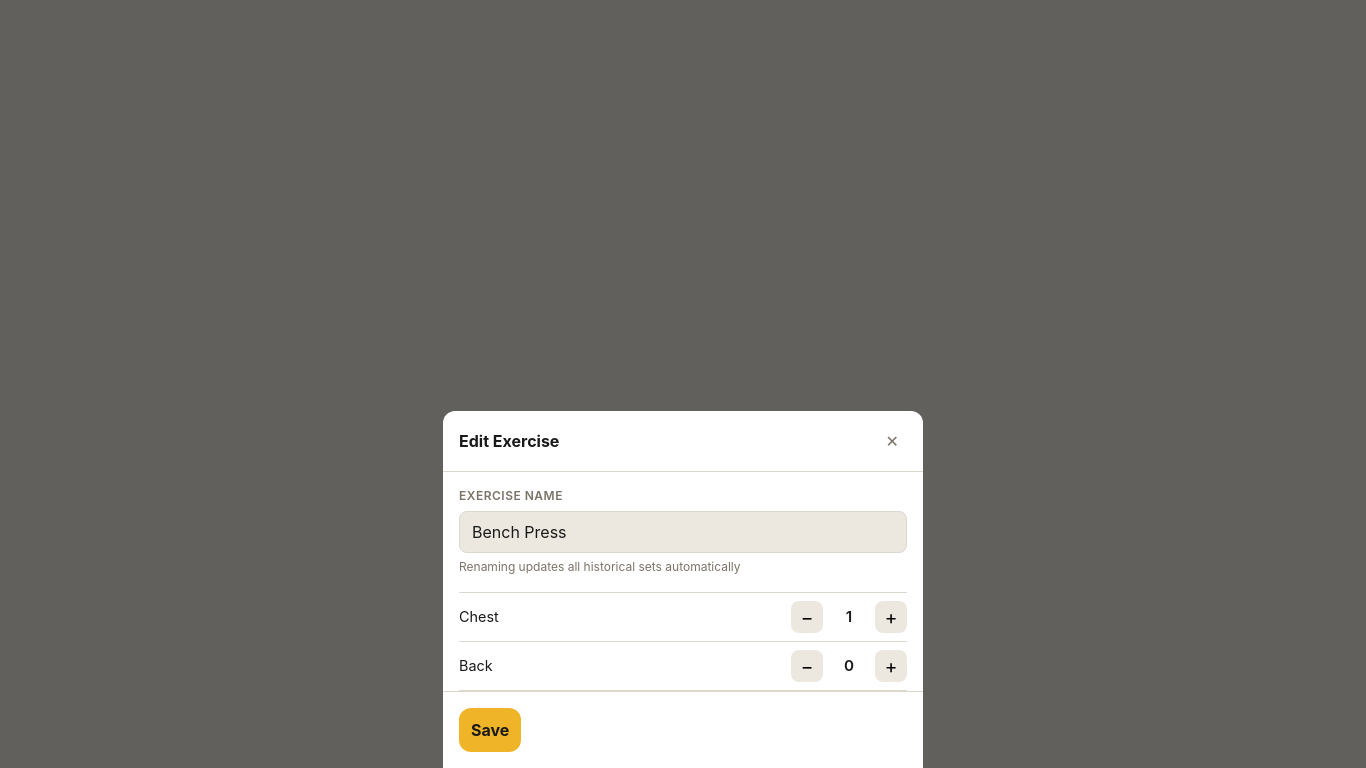
ExerciseEditSheet › shows inline error when new name duplicates an existing exercise
Replace the text in the field with placeholder "Exercise Name" with "Squat" at {"x": 683, "y": 532}, box [459,511,907,553]
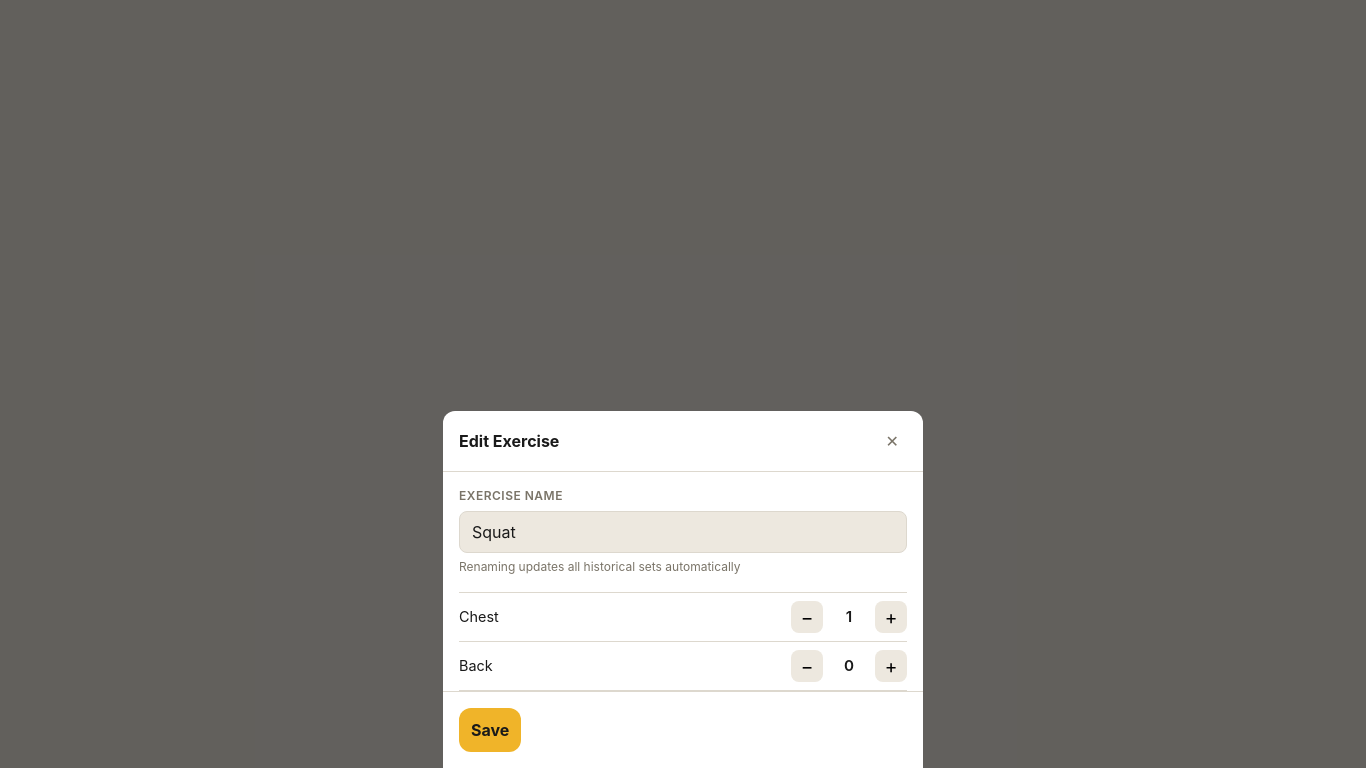
Click the button "Save" at {"x": 490, "y": 730}, box [459,708,521,752]
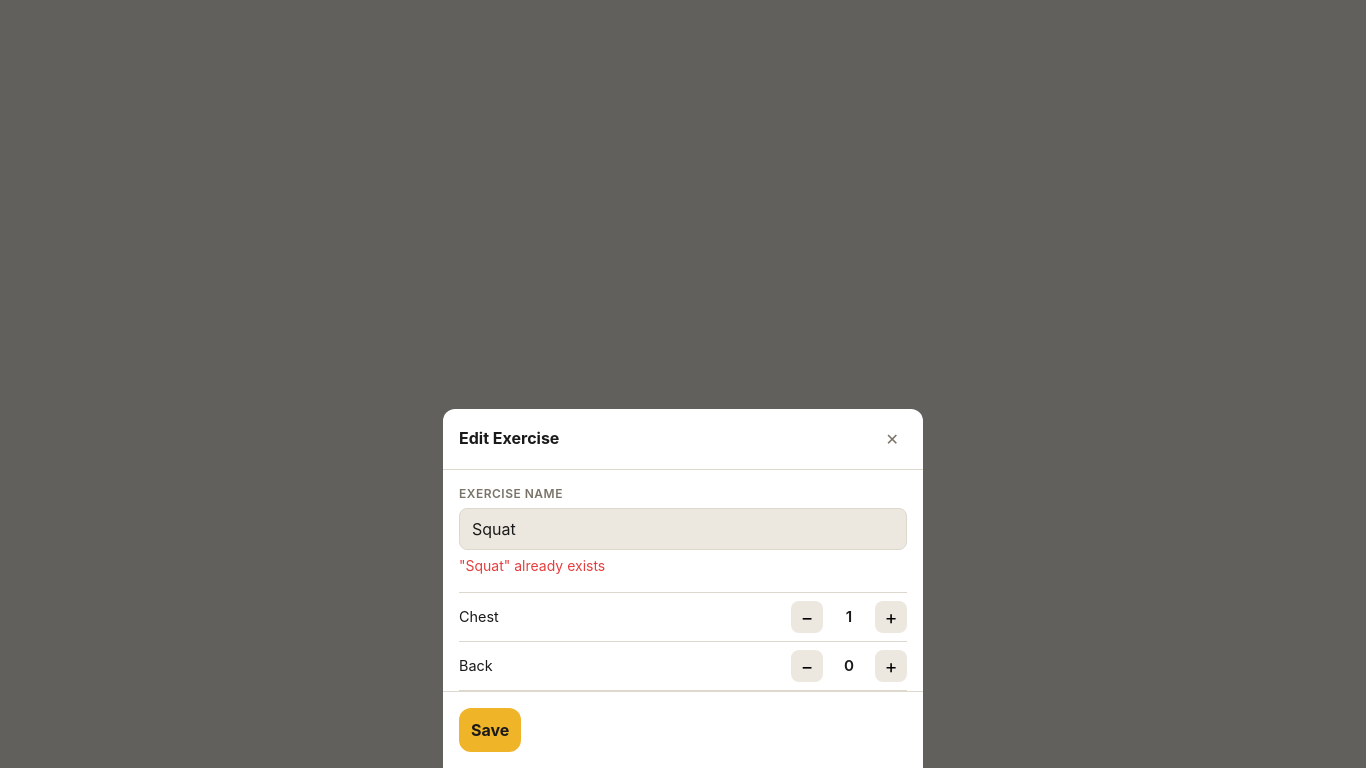
Now the text "\"Squat\" already exists" is shown, box [459,557,605,574]
